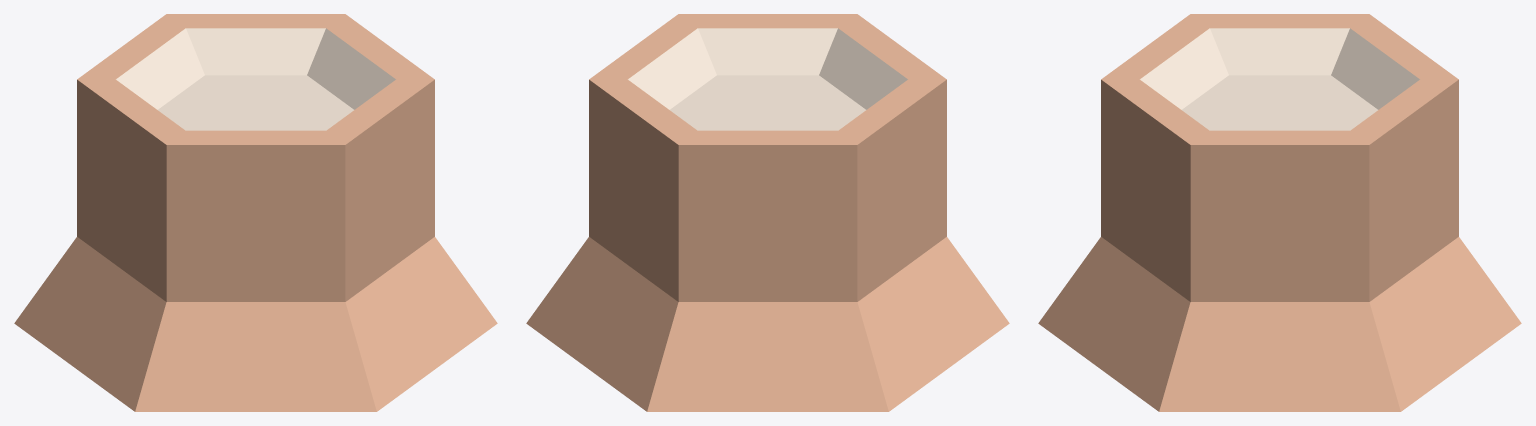
The model's file is stump_round.glb.
3 views of the same model, side by side, from view 1: azimuth 30°, elevation 25°; view 2: azimuth 150°, elevation 25°; view 3: azimuth 270°, elevation 25° (orthographic).
Visible parts, largest first — view 1: stump_round; view 2: stump_round; view 3: stump_round.
Part boxes in pixels (x1,y1,x2,y2): stump_round: (14,14,497,411); stump_round: (526,14,1009,411); stump_round: (1038,14,1521,411).
Size of the model in its own units: 0.3213 by 0.2065 by 0.371.
Materials: 1 (1 with a texture image).
